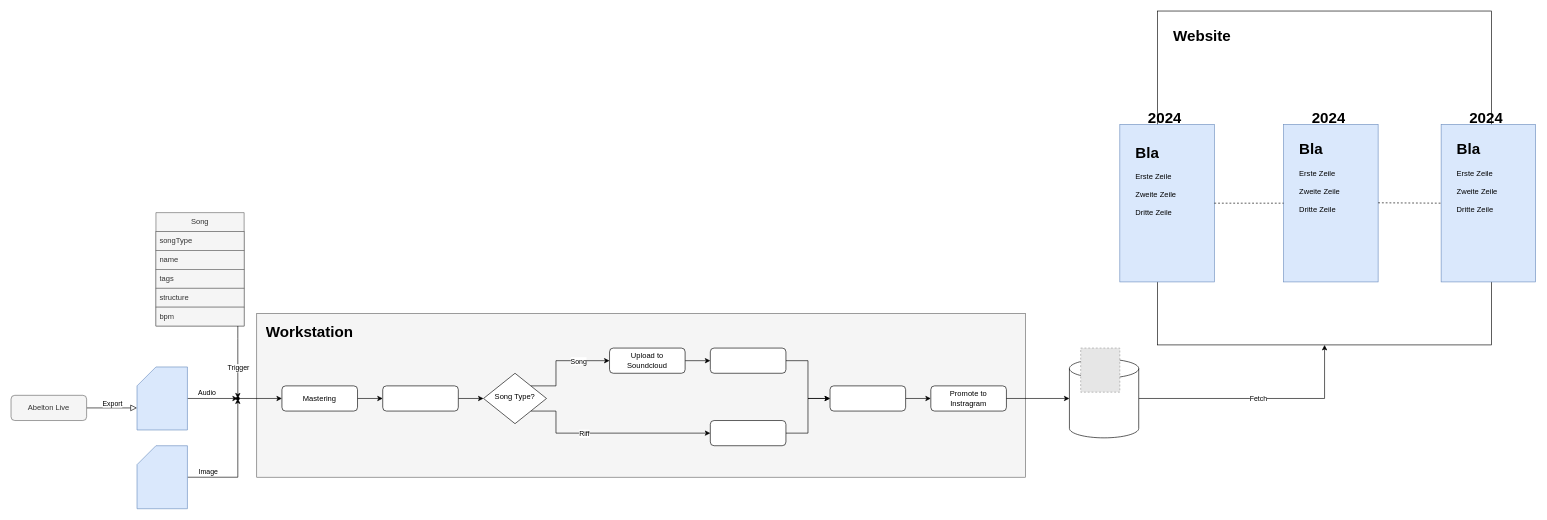
This 1547x520 diagram has some shape labels left out. Grey dashed boxes stand in for pictures. Here are the shapes that lost their labels. From the top down, the box of each, then its label:
(710, 347, 786, 373): Upload to Apple Music
(136, 366, 187, 430): wav
(382, 385, 458, 411): Analysis
(829, 385, 906, 411): Create Article in Contentful
(1069, 358, 1139, 438): Song List in Contentful
(710, 420, 786, 446): Upload to Selling Distributor
(136, 445, 187, 509): Cover
